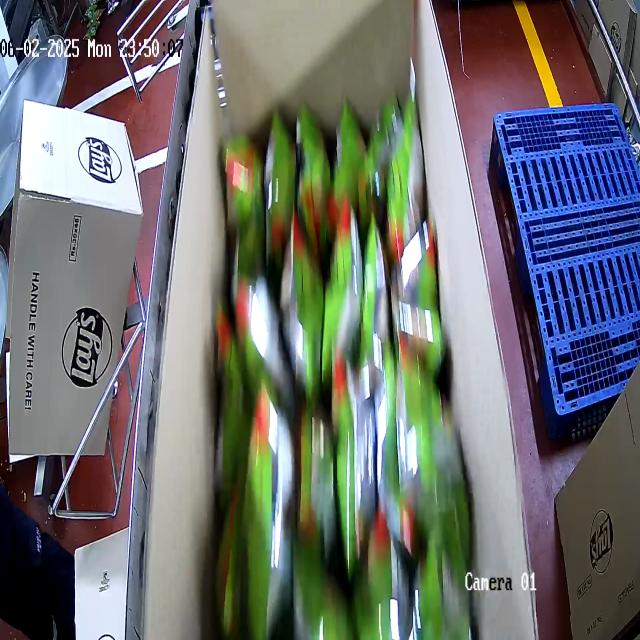YOGURT_HERB: (212, 92, 475, 640)
